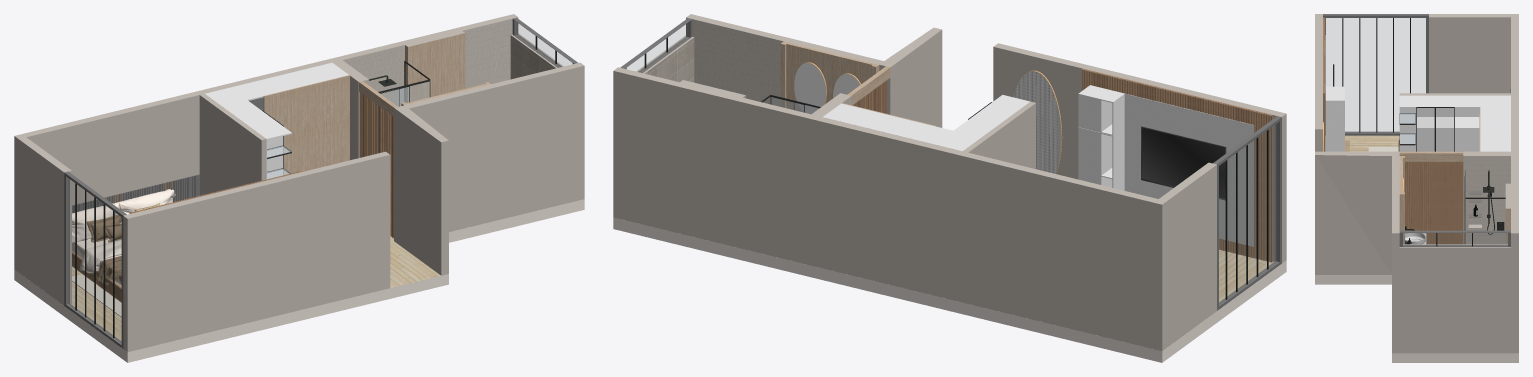
The picture shows the model from 3 angles, left to right: view 1: azimuth 30°, elevation 25°; view 2: azimuth 150°, elevation 25°; view 3: azimuth 270°, elevation 25°; orthographic projection. The views are drawn at different scales.
Parts seen in each view (by area): view 1: object 1, object 46, object 15, object 10, object 2, object 3, default001, object 16, Pattern2D_28104, object 34, Carpet, Shower_03_component_02; view 2: object 1, object 10, object 46, object 15, object 3, object 39, object 45, object 2, object 16; view 3: object 1, object 15, object 10, object 3, object 46, object 2, object 38, object 16, Shower_03_component_02, object 34, Agrupar#8, object 37.
Boxes of the visible parts, x1,y1,x2,y2 form: object 1: (14,14,584,352); object 46: (14,199,584,362); object 15: (69,23,571,341); object 10: (205,62,348,178); object 2: (64,17,577,348); object 3: (72,92,393,302); default001: (72,189,175,285); object 16: (75,36,556,338); Pattern2D_28104: (86,204,157,286); object 34: (267,81,429,179); Carpet: (72,274,121,317); Shower_03_component_02: (369,61,430,153); object 1: (613,14,1286,350); object 10: (823,85,1254,246); object 46: (613,217,1286,362); object 15: (627,23,1276,303); object 3: (853,68,1272,262); object 39: (794,62,1062,173); object 45: (1141,126,1226,200); object 2: (620,18,1281,310); object 16: (644,37,1268,299); object 1: (1315,14,1518,353); object 15: (1326,18,1507,244); object 10: (1325,35,1510,151); object 3: (1323,17,1463,244); object 46: (1315,135,1518,362); object 2: (1323,14,1510,246); object 38: (1417,108,1453,150); object 16: (1342,18,1472,246); Shower_03_component_02: (1464,170,1505,243); object 34: (1400,113,1415,143); Agrupar#8: (1405,233,1425,244); object 37: (1416,107,1454,151).
Size of the model in its own units: 9.8 by 2.7 by 3.85.
Materials: 74 (35 with a texture image).
